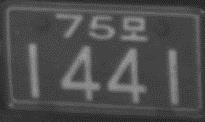1: (158, 48, 189, 107), (20, 43, 51, 98)
4: (60, 45, 100, 101), (108, 48, 147, 104)
5: (88, 14, 116, 40)
7: (54, 11, 83, 38)
모: (119, 16, 148, 42)
